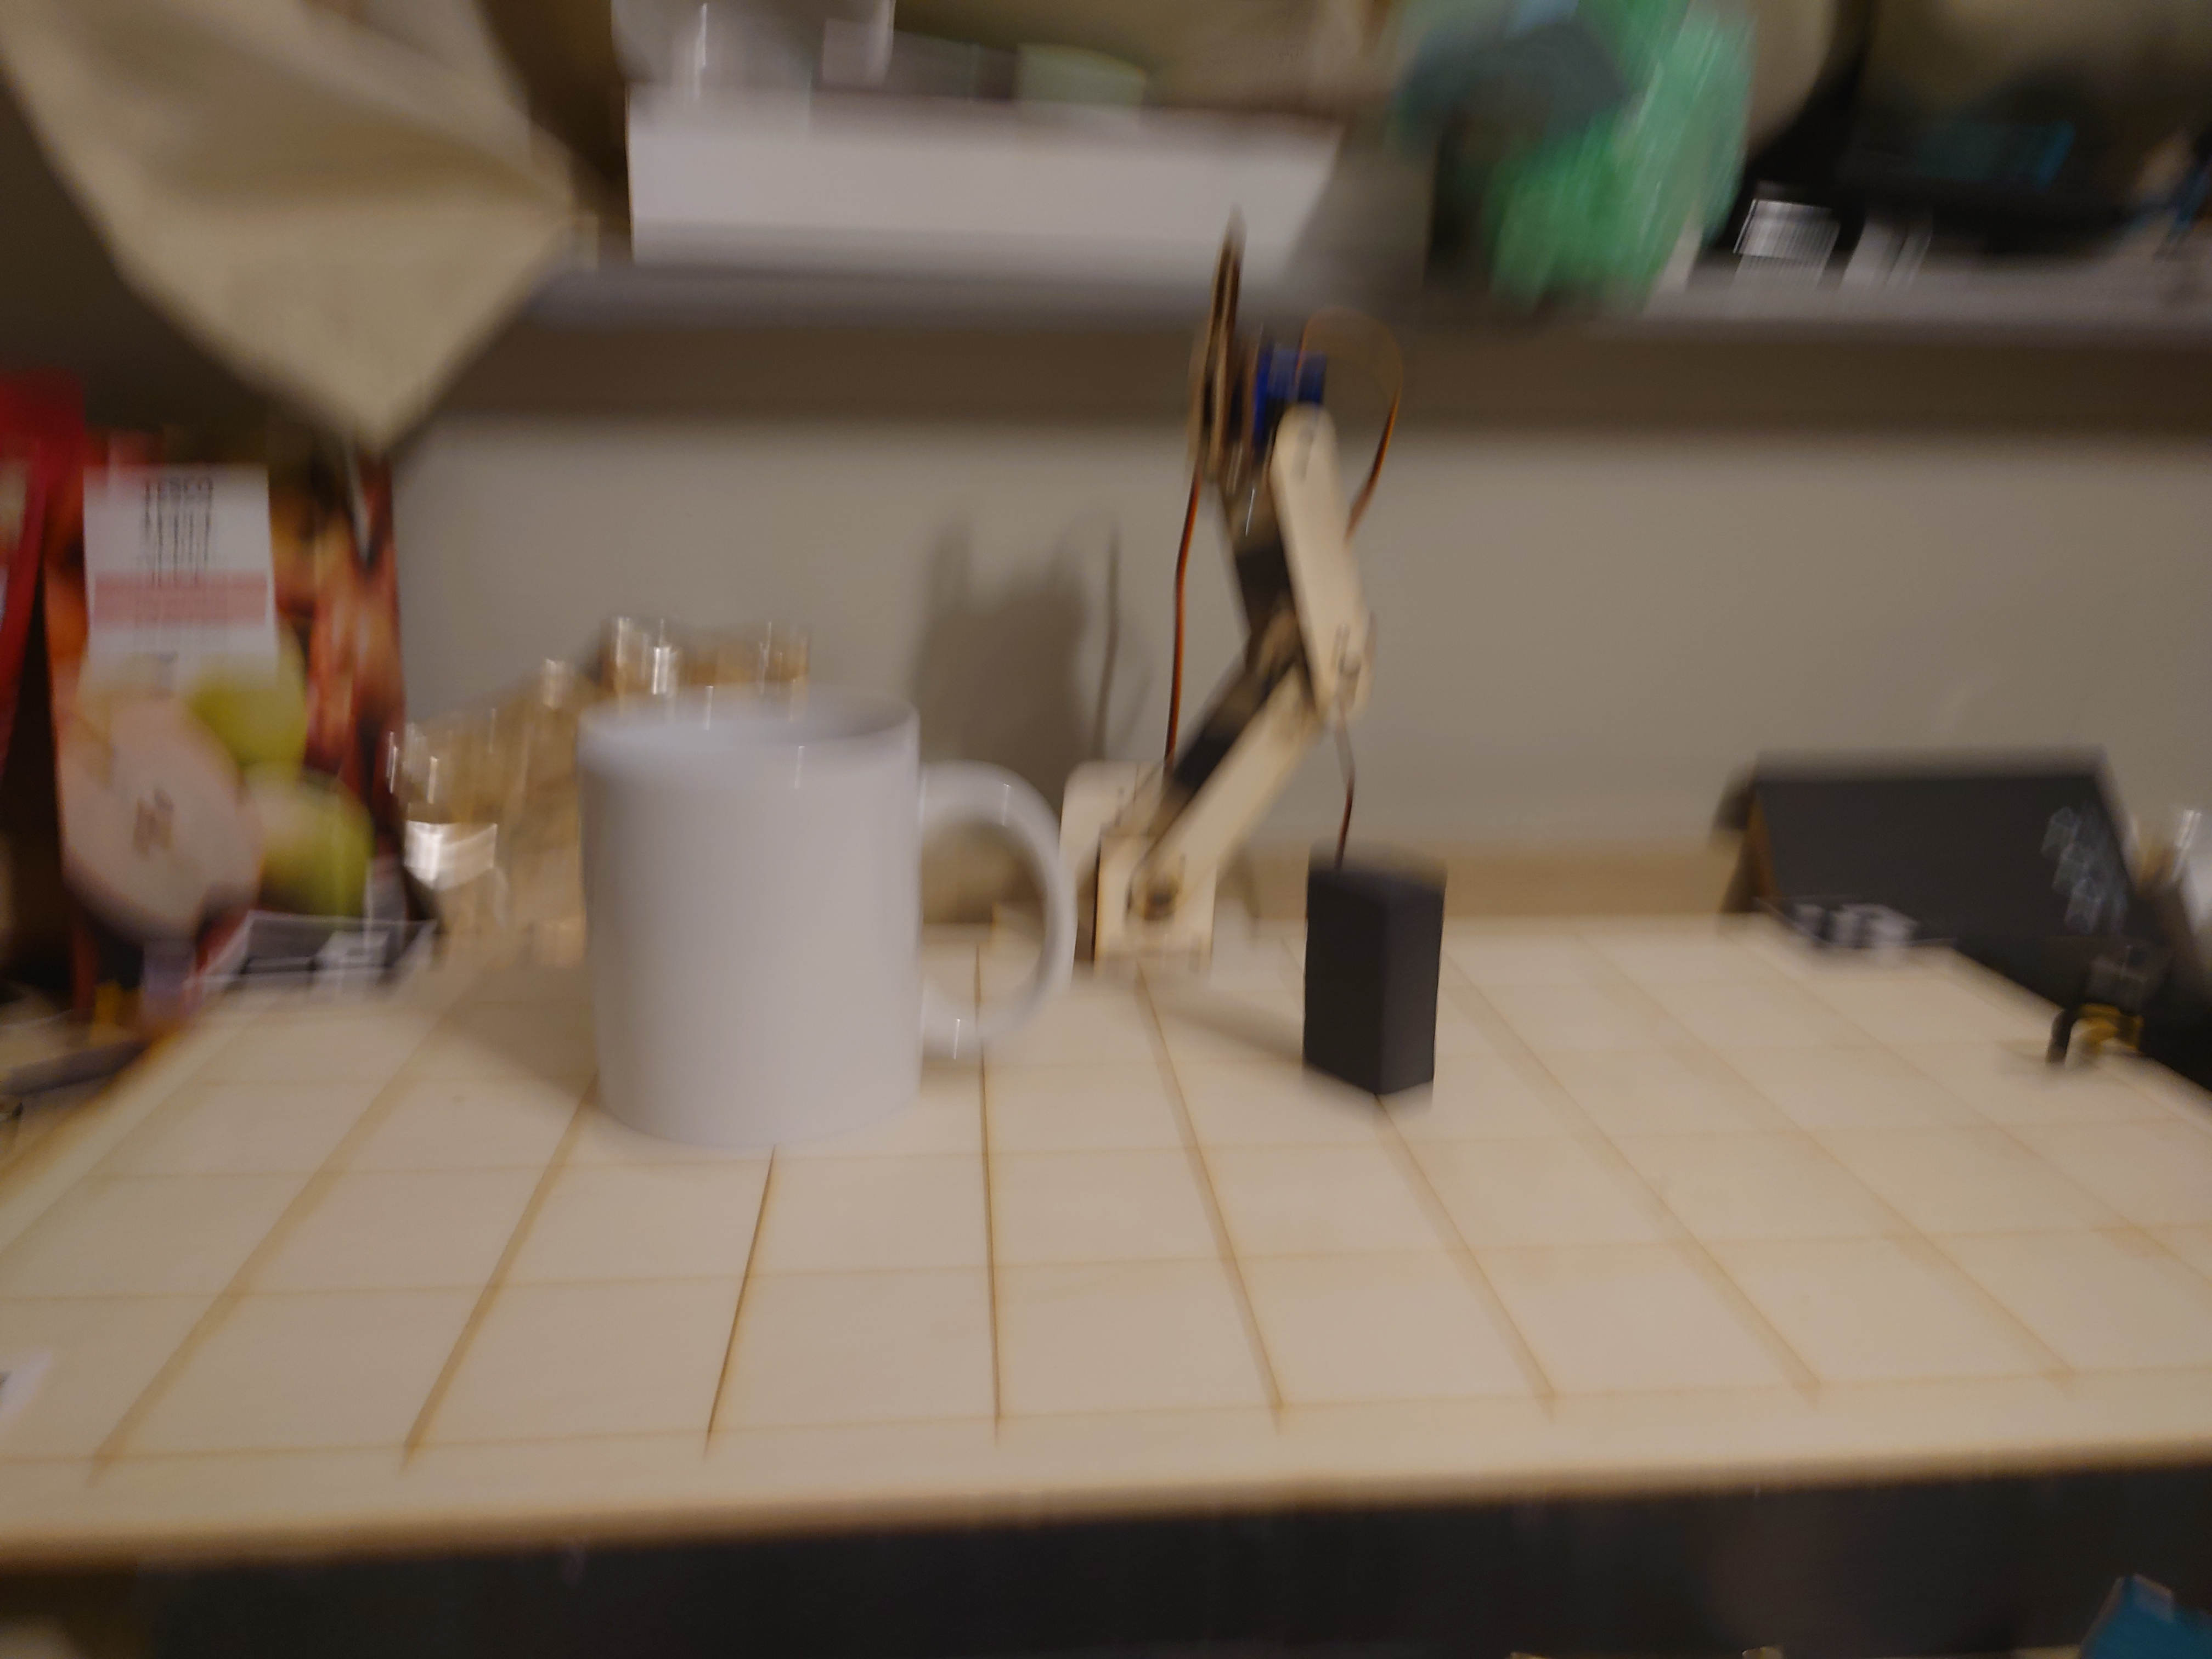cup: (531, 647, 1085, 1183)
target: (1291, 810, 1451, 1121)
